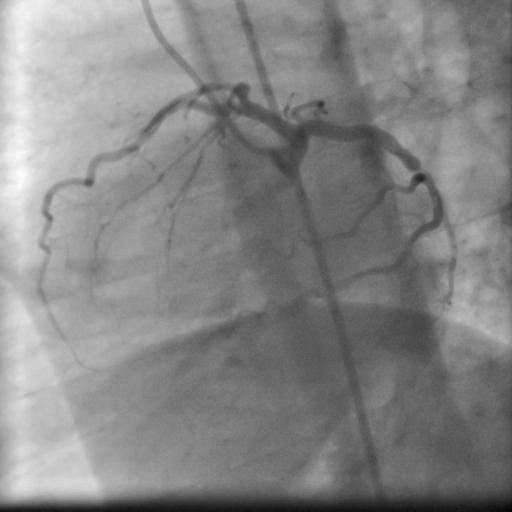Stenosis: (407, 166, 425, 173)
